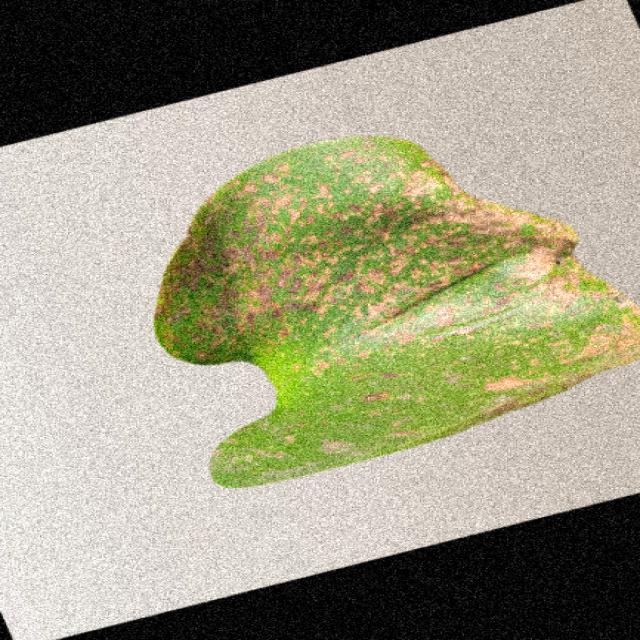daun berpenyakit bercak: (155, 138, 638, 488)
